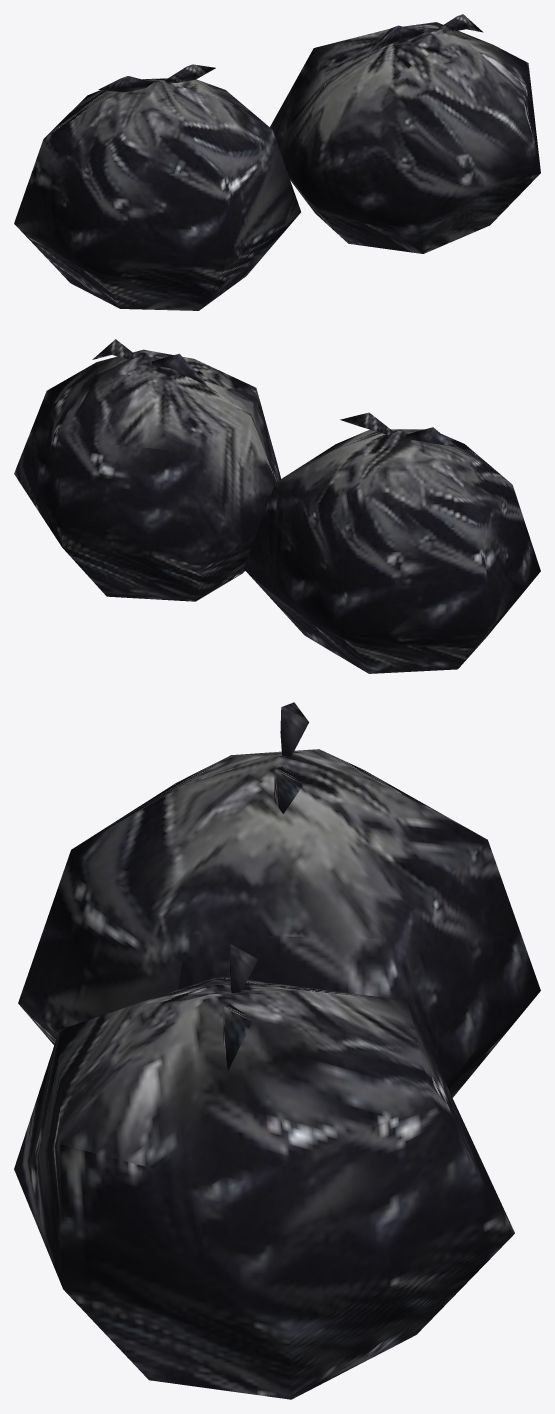
File: Garbage_bag.dae
The picture shows the model from 3 angles, top to bottom: view 1: azimuth 30°, elevation 25°; view 2: azimuth 150°, elevation 25°; view 3: azimuth 270°, elevation 25°; orthographic projection. The views are drawn at different scales.
Visible parts, largest first — view 1: Garbage_bag, Garbage_bag_01; view 2: Garbage_bag, Garbage_bag_01; view 3: Garbage_bag_01, Garbage_bag.
Part boxes in pixels (x1,y1,x2,y2): Garbage_bag: [14, 64, 300, 310]; Garbage_bag_01: [270, 14, 540, 253]; Garbage_bag: [243, 412, 540, 673]; Garbage_bag_01: [14, 339, 280, 601]; Garbage_bag_01: [14, 944, 514, 1399]; Garbage_bag: [18, 702, 540, 1097].
Size of the model in its own units: 1.47 by 0.7454 by 0.6082.
Materials: 1 (1 with a texture image).
